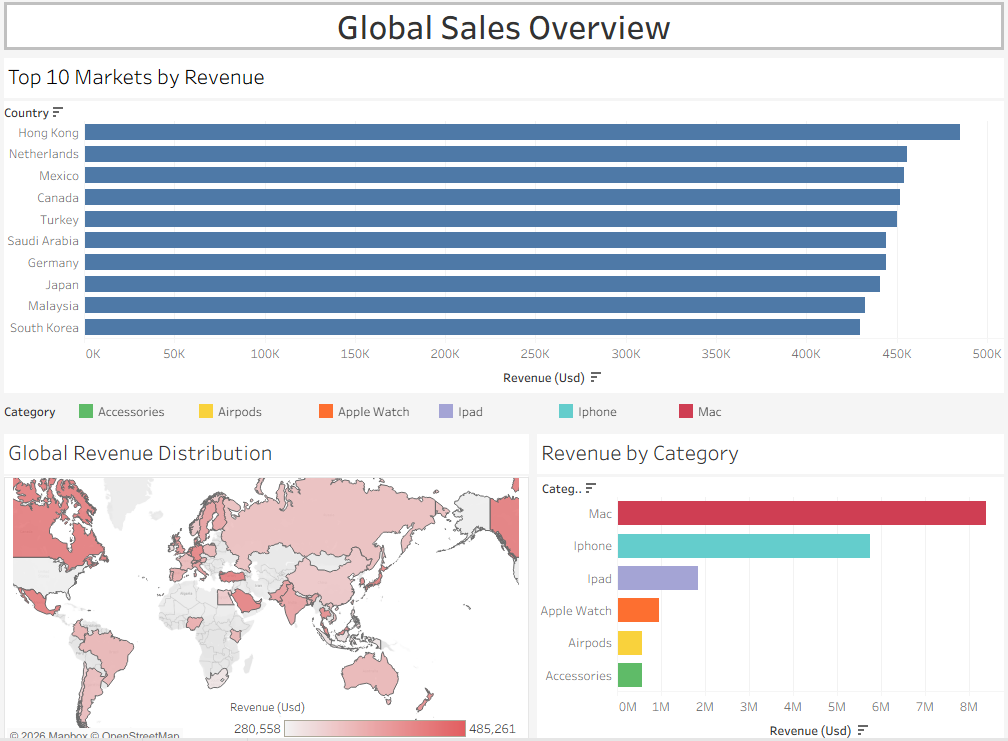

This screenshot's page, from the dashboard's own definition file:
{"tool":"tableau","page":{"name":"Global Sales Overview","canvas":[1024,768],"ordinal":0},"visuals":[{"type":"title","box":[8,8,1008,56]},{"type":"worksheet","title":"Top 10 Markets by Revenue","mark":"Automatic","rows":["country"],"cols":["revenue_discounted_usd"],"box":[8,64,1008,343]},{"type":"legend","title":"Revenue by Category","param":"[federated.1b0fkgo04lajpe1h7hosv1cskxv5].[none:category:nk]","box":[8,407,1008,33]},{"type":"worksheet","title":"Global Revenue Distribution","mark":"Automatic","box":[8,440,533,320]},{"type":"worksheet","title":"Revenue by Category","mark":"Automatic","rows":["category"],"cols":["revenue_discounted_usd"],"box":[541,440,475,320]},{"type":"legend","title":"Global Revenue Distribution","param":"[federated.1b0fkgo04lajpe1h7hosv1cskxv5].[sum:revenue_discounted_usd:qk]","box":[238,709,291,41]}]}

Visuals, with their boxes in screenshot pixels (x1, y1, x2, y2), scaled from the page's 1024x768 canvas onto the 1008x741 screenshot:
title: 8, 8, 1000, 62
"Top 10 Markets by Revenue" worksheet: 8, 62, 1000, 393
"Revenue by Category" legend: 8, 393, 1000, 425
"Global Revenue Distribution" worksheet: 8, 425, 533, 733
"Revenue by Category" worksheet: 533, 425, 1000, 733
"Global Revenue Distribution" legend: 234, 684, 521, 724
